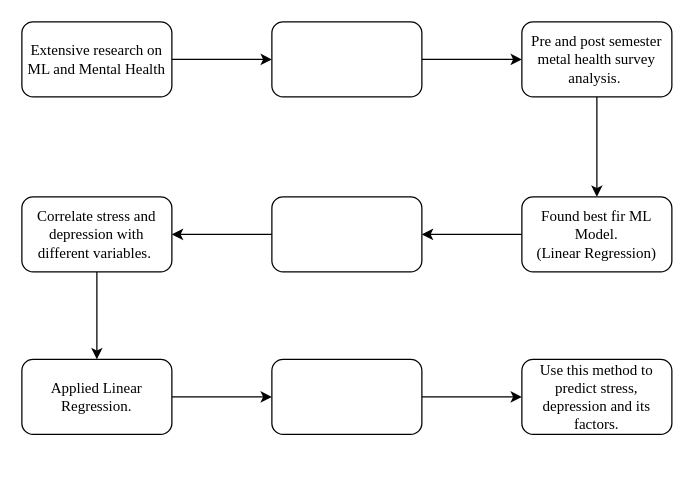
This 694x481 diagram has some shape labels left out. The box of each missing label's shape, as (x1, y1, x2, y2) in pixels:
Data acquisition an analysis: (271, 21, 422, 97)
Data generation and cleansing (factors dataset): (271, 196, 422, 272)
Understand the effects of those variables on mental health.: (271, 358, 422, 434)
